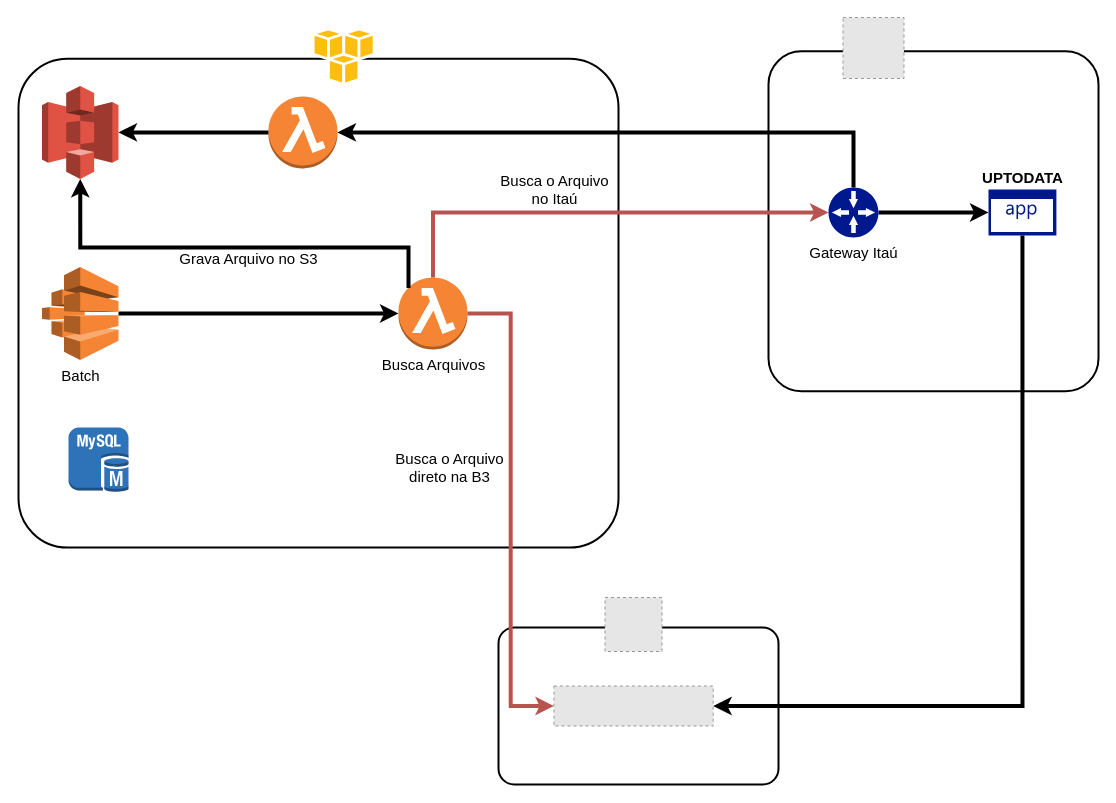
The diagram is 1116 pixels wide and 803 high, and some of its shapes have lost their labels. Grey dashed boxes stand in for pictures. Each missing label, with the box of its shape:
[GET] Dados de um arquivo: (268, 95, 338, 168)
S3: (41, 85, 118, 179)
